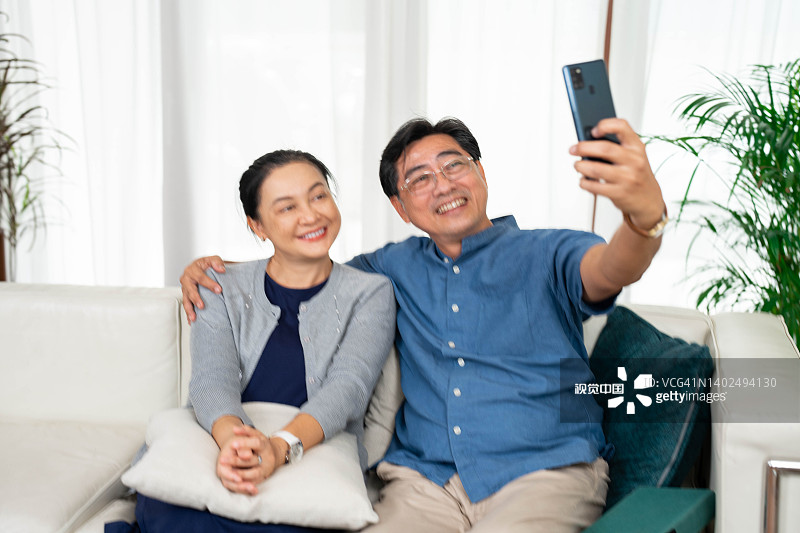taking photos: (542, 76, 688, 243)
